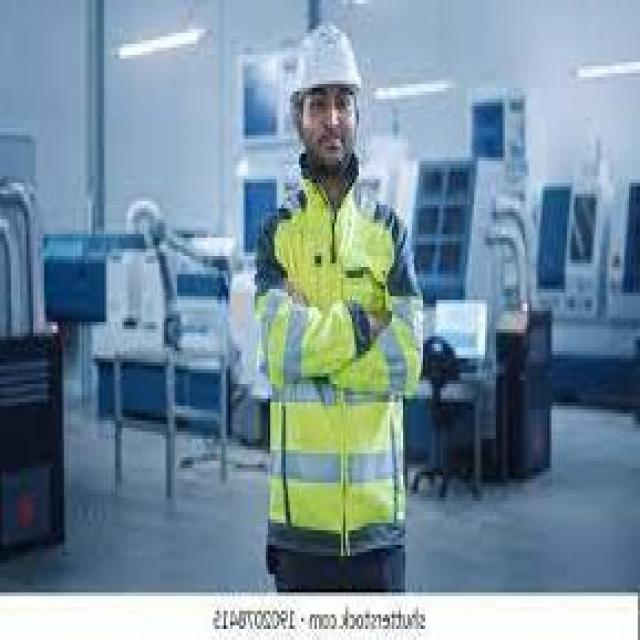Reflective-Jacket: (252, 176, 410, 585)
Safety-Helmet: (286, 18, 365, 106)
